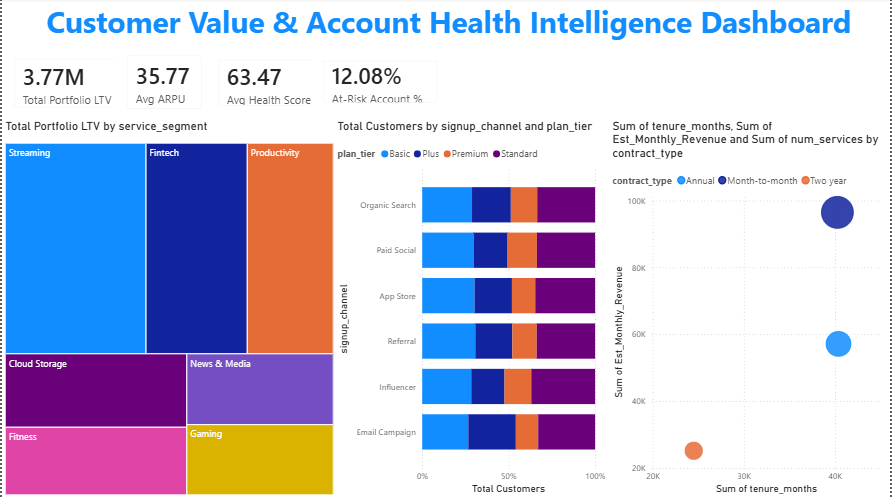

What the dashboard file says about the page in this screenshot:
{"tool":"powerbi","page":{"name":"Page 1","canvas":[1280,720],"ordinal":0},"visuals":[{"type":"textbox","box":[58.8,0,1170.8,70.6],"z":0},{"type":"cardVisual","fields":{"Data":["customer_churn_2026-selected-columns.Total Portfolio LTV"]},"box":[0,70.6,188.1,104.1],"z":1000},{"type":"cardVisual","fields":{"Data":["customer_churn_2026-selected-columns.Avg ARPU"]},"box":[162.9,65.5,142.8,112.5],"z":2000},{"type":"cardVisual","fields":{"Data":["customer_churn_2026-selected-columns.Avg Health Score"]},"box":[294,72.2,188.1,100.8],"z":3000},{"type":"cardVisual","fields":{"Data":["customer_churn_2026-selected-columns.At-Risk Account %"]},"box":[445.1,73.9,199.9,95.7],"z":4000},{"type":"treemap","fields":{"Group":["customer_churn_2026-selected-columns.service_segment"],"Values":["customer_churn_2026-selected-columns.Total Portfolio LTV"]},"box":[0,174,482,546],"z":5000},{"type":"hundredPercentStackedBarChart","fields":{"Category":["customer_churn_2026-selected-columns.signup_channel"],"Y":["customer_churn_2026-selected-columns.Total Customers"],"Series":["customer_churn_2026-selected-columns.plan_tier"]},"box":[478,174,396,546],"z":6000},{"type":"scatterChart","fields":{"X":["Sum(customer_churn_2026-selected-columns.tenure_months)"],"Y":["Sum(customer_churn_2026-selected-columns.Est_Monthly_Revenue)"],"Size":["Sum(customer_churn_2026-selected-columns.num_services)"],"Series":["customer_churn_2026-selected-columns.contract_type"]},"box":[874,174,406,546],"z":7000}]}

Visuals, with their boxes in screenshot pixels (x1, y1, x2, y2), scaled from the page's 1280x720 canvas onto the 892x497 screenshot:
textbox: crop(41, 0, 857, 49)
cardVisual - customer_churn_2026-selected-columns.Total Portfolio LTV: crop(0, 49, 131, 121)
cardVisual - customer_churn_2026-selected-columns.Avg ARPU: crop(114, 45, 213, 123)
cardVisual - customer_churn_2026-selected-columns.Avg Health Score: crop(205, 50, 336, 119)
cardVisual - customer_churn_2026-selected-columns.At-Risk Account %: crop(310, 51, 449, 117)
treemap - customer_churn_2026-selected-columns.service_segment x customer_churn_2026-selected-columns.Total Portfolio LTV: crop(0, 120, 336, 496)
hundredPercentStackedBarChart - customer_churn_2026-selected-columns.signup_channel x customer_churn_2026-selected-columns.Total Customers: crop(333, 120, 609, 496)
scatterChart - Sum(customer_churn_2026-selected-columns.tenure_months) x Sum(customer_churn_2026-selected-columns.Est_Monthly_Revenue): crop(609, 120, 891, 496)
